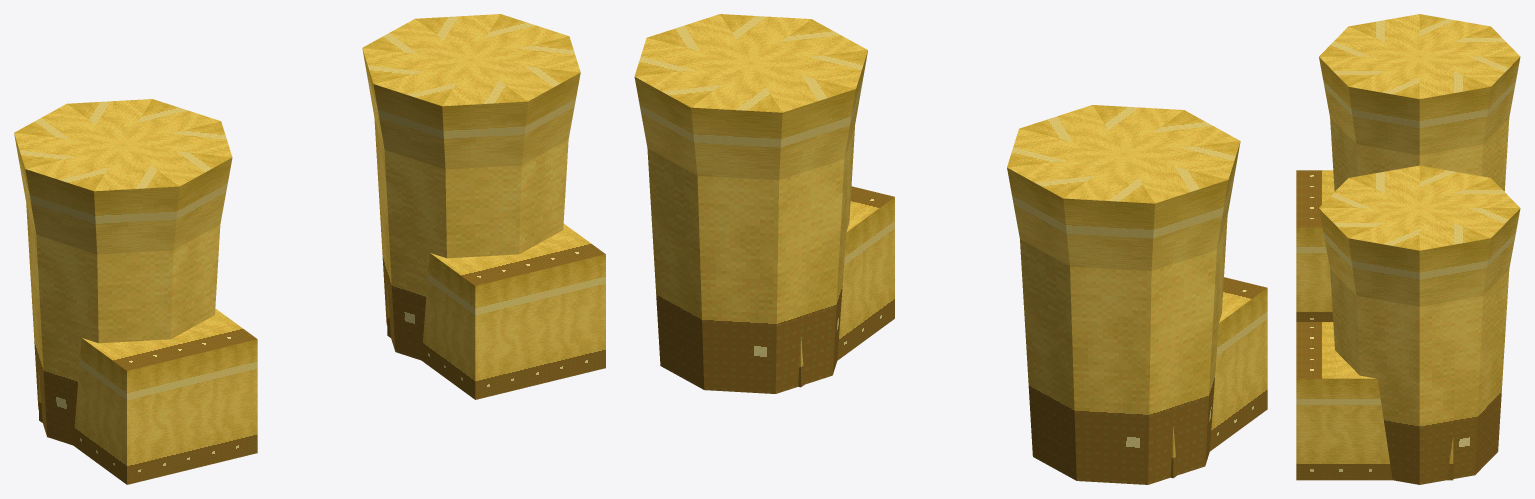
The model's file is luvas_de_ouro.glb.
3 renders of one model, left to right at view 1: azimuth 30°, elevation 25°; view 2: azimuth 150°, elevation 25°; view 3: azimuth 270°, elevation 25°, orthographic. The views are drawn at different scales.
Parts seen in each view (by area): view 1: luvas_de_ouro; view 2: luvas_de_ouro; view 3: luvas_de_ouro.
Boxes of the visible parts, box(x1,y1,x2,y2) form: luvas_de_ouro: box(14, 14, 605, 484); luvas_de_ouro: box(634, 14, 1267, 484); luvas_de_ouro: box(1296, 14, 1520, 484).
Size of the model in its own units: 0.5 by 0.24 by 0.2.
1 material, 1 textured.
